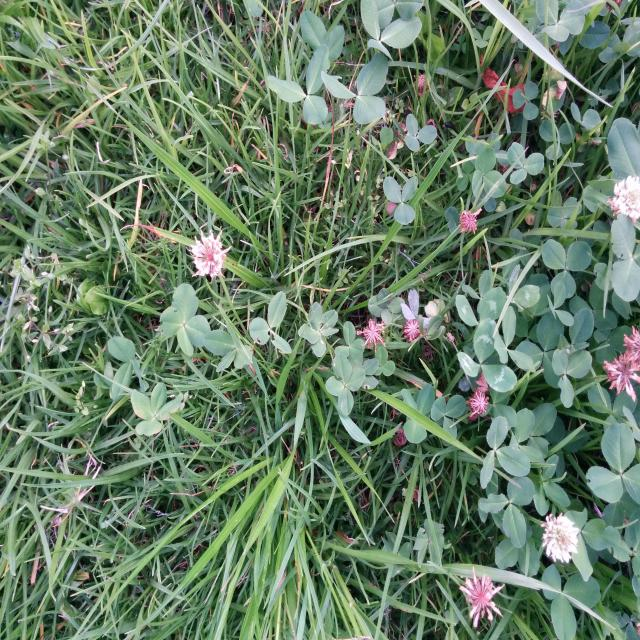Four Leaf Clover: (160, 287, 210, 354), (131, 382, 182, 435), (325, 359, 365, 414), (299, 303, 338, 355), (215, 321, 252, 372)
